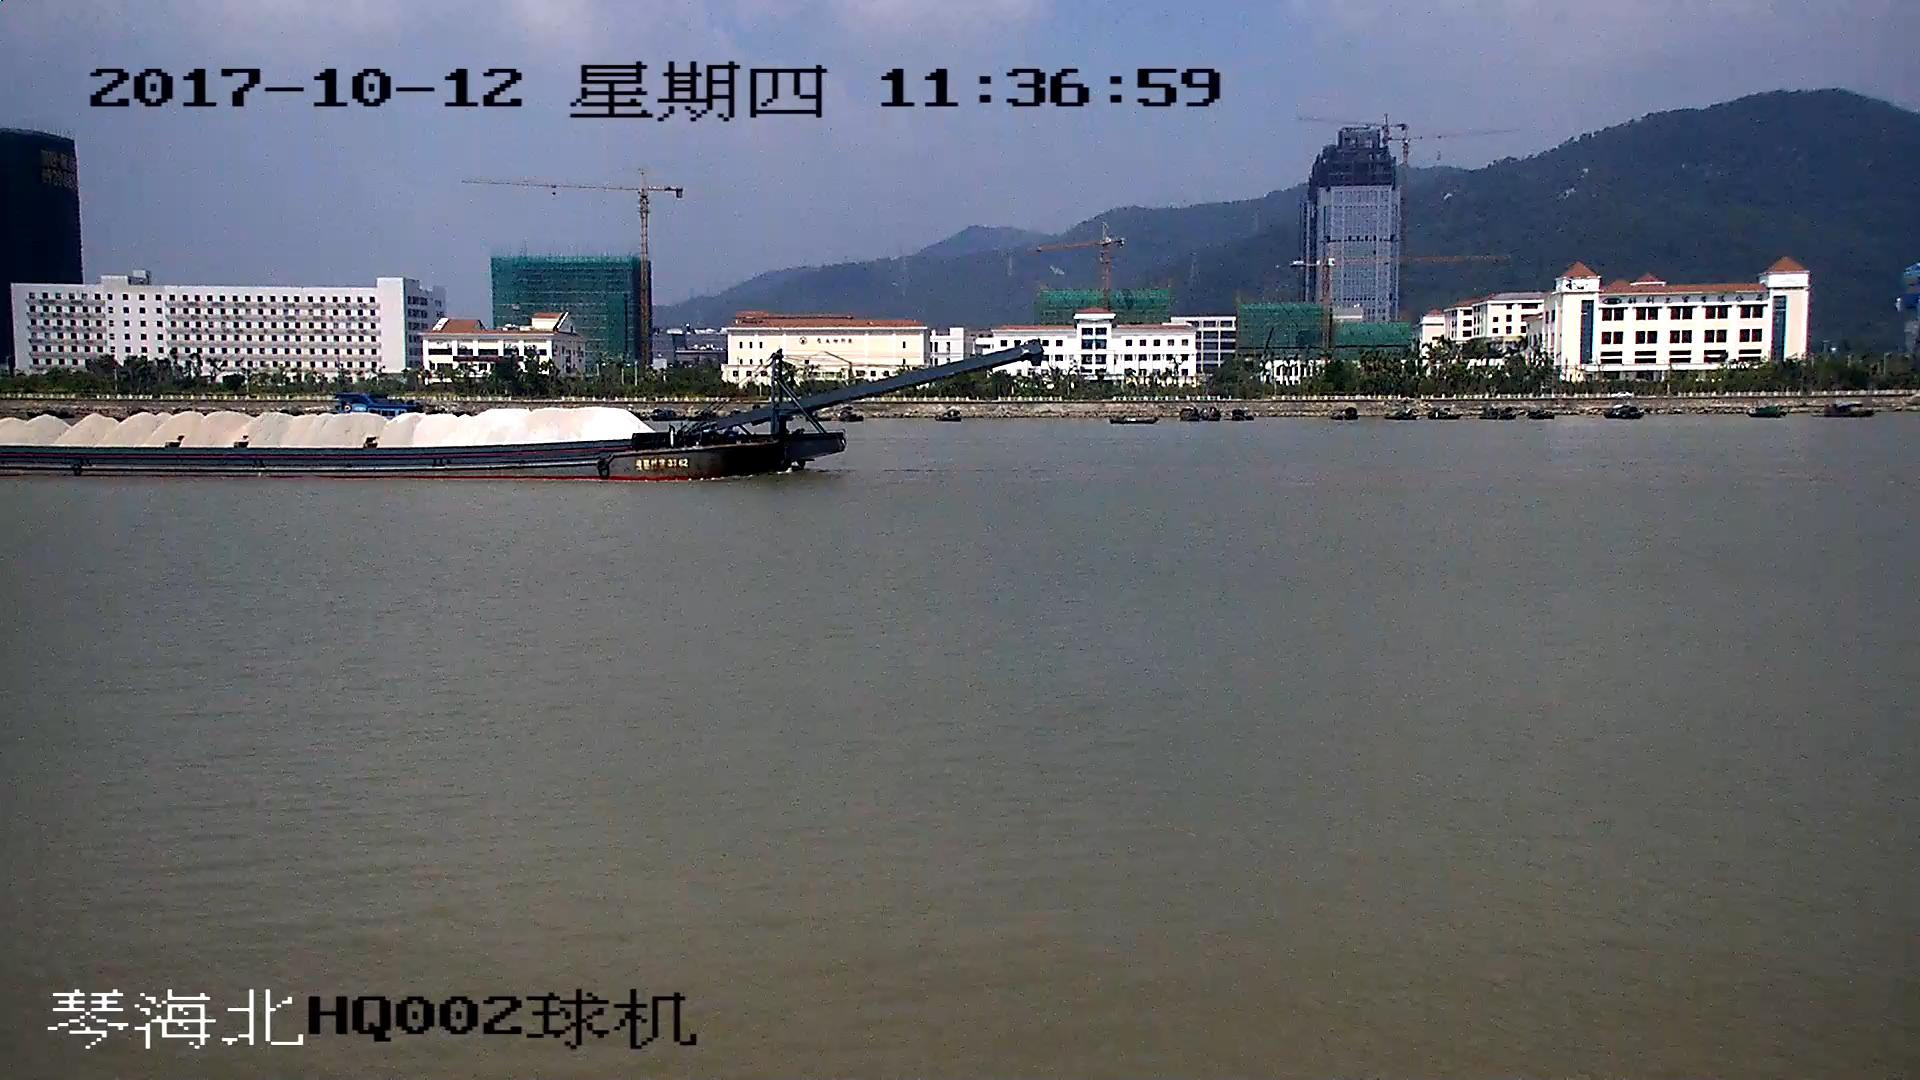ore carrier: (1, 347, 1038, 475)
